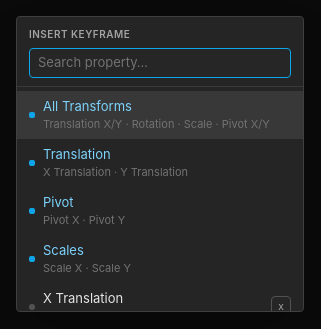
Test: InsertKeyframePopup › promotes the s shorthand to Scale X
Type "s" into the field with placeholder "Search property…".
click(160, 63); type("s")  # box [29, 48, 291, 78]
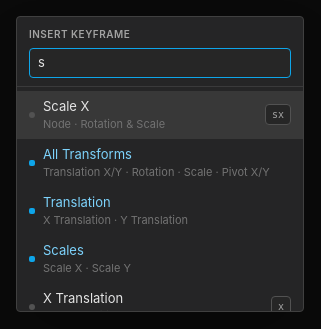
Result: the text "Scale X" is shown at [43, 98, 90, 114]
